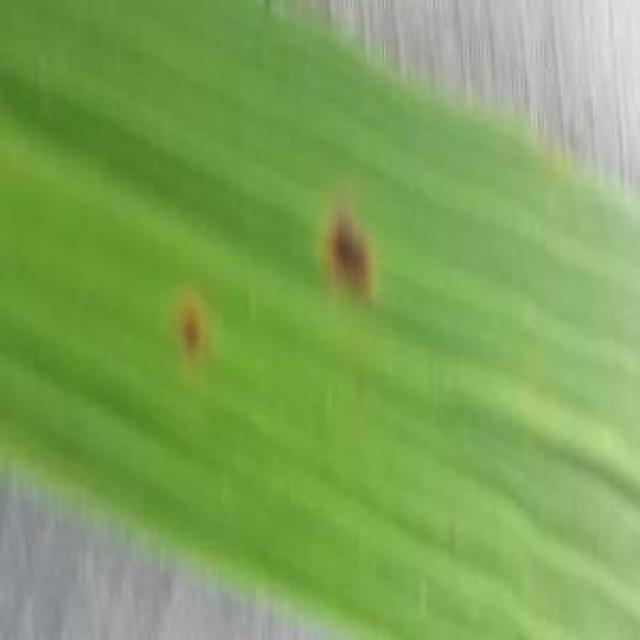Brown_Spot: (302, 192, 399, 314), (168, 287, 216, 364)
